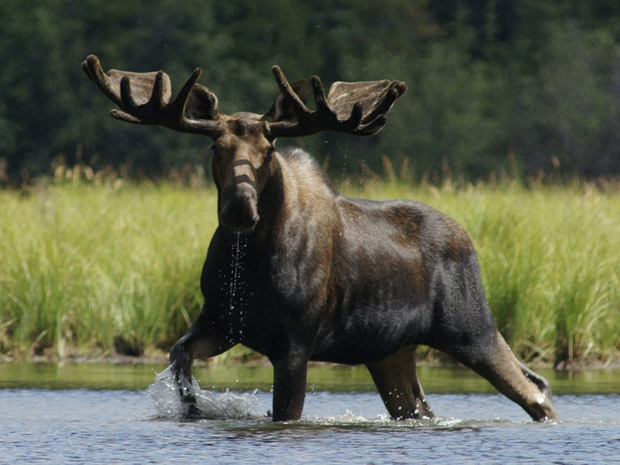moose: (73, 34, 574, 436)
